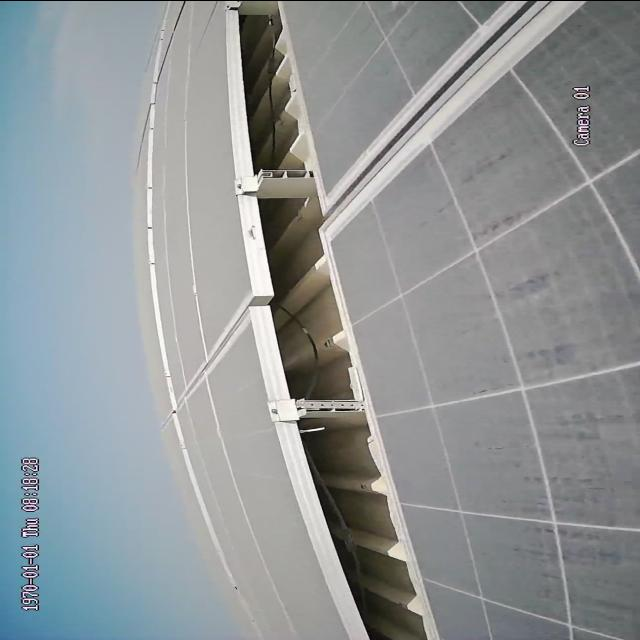interior panel: (329, 1, 585, 231), (182, 291, 247, 405)
outher panel: (222, 3, 434, 639)
